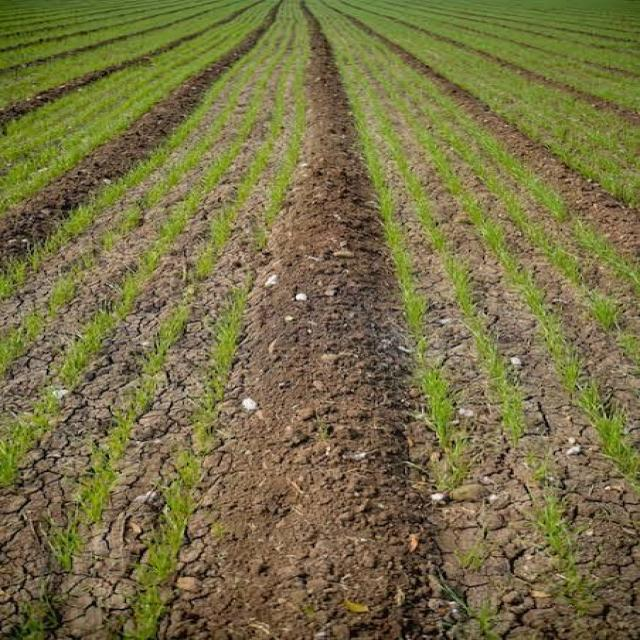suelo_humedo: (110, 61, 590, 617)
